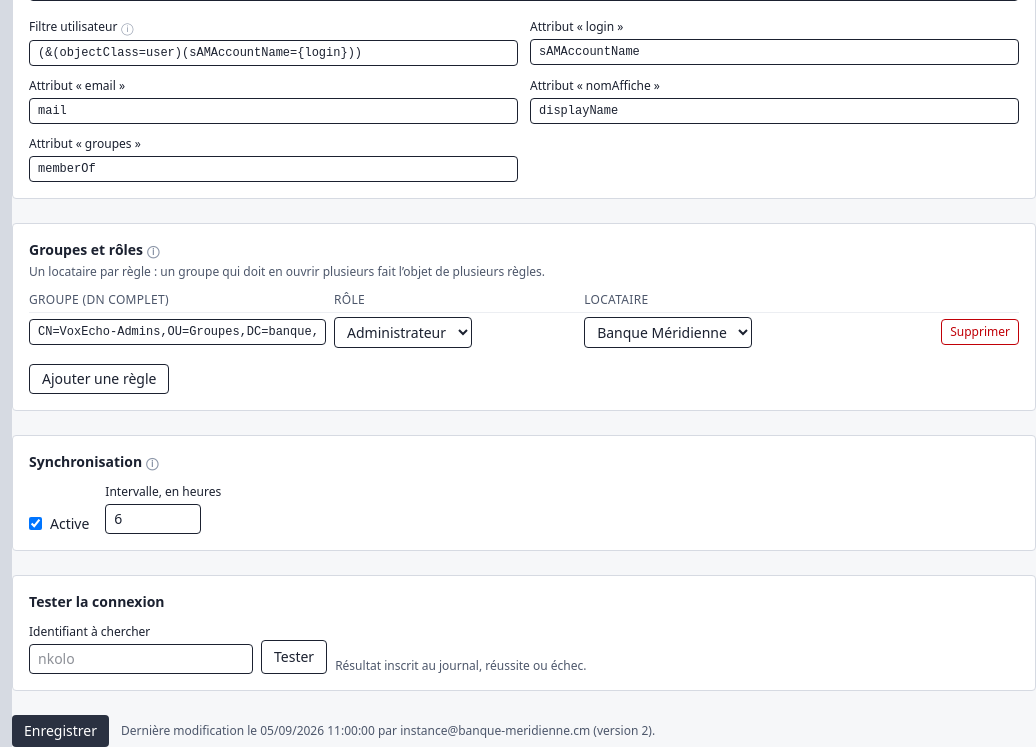
Test case: onglet Annuaire › remonte l’échec d’une liaison sans prétendre qu’elle a réussi
(page scrolled)
Click the button "Tester" at (294, 657), box x1=261 y1=640 x2=327 y2=674
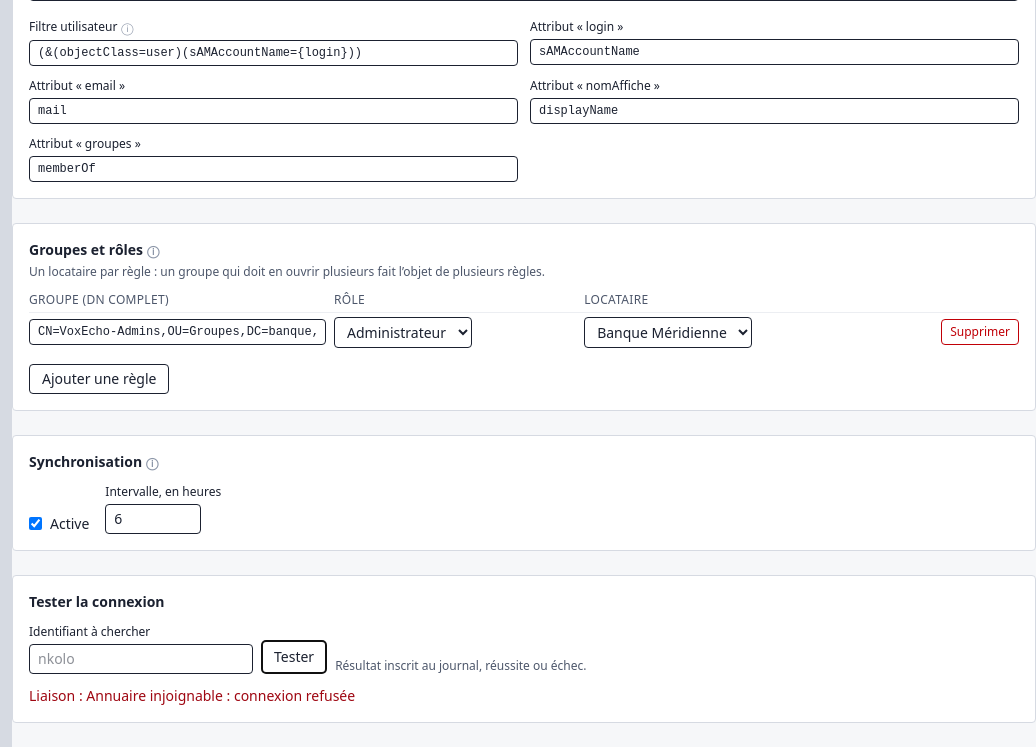
Check: the text "Liaison : Annuaire injoignable : connexion refusée" is shown, box x1=29 y1=686 x2=355 y2=705
